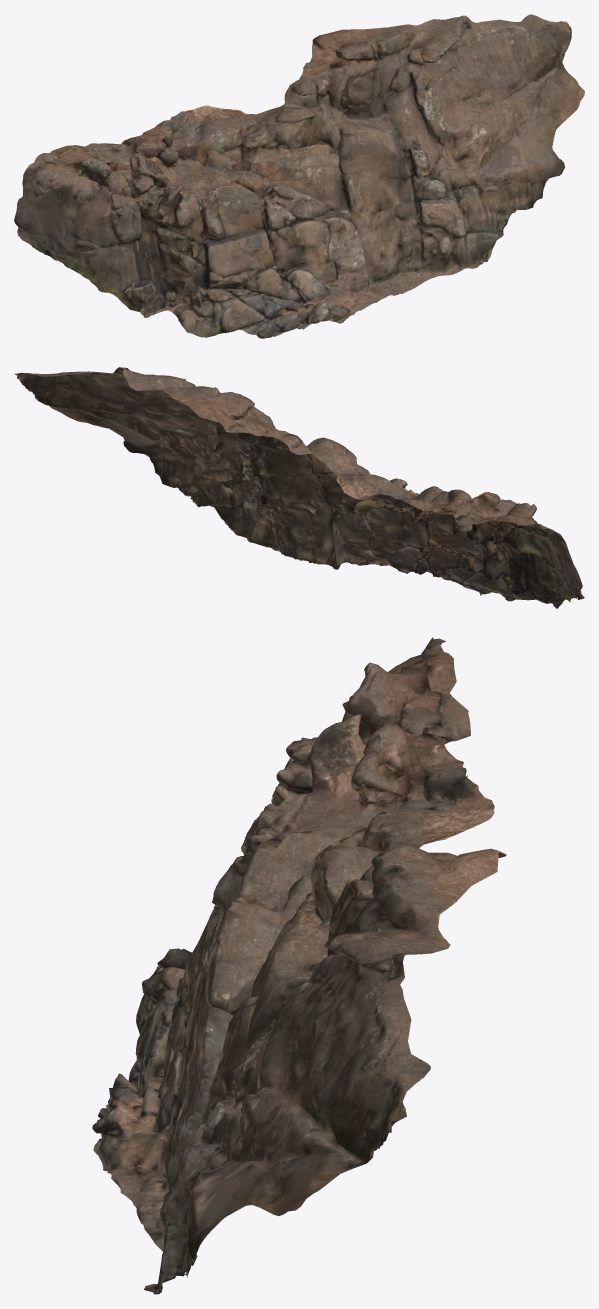
The model's file is namaqualand_cliff_02.glb.
3 renders of one model, top to bottom at view 1: azimuth 30°, elevation 25°; view 2: azimuth 150°, elevation 25°; view 3: azimuth 270°, elevation 25°, orthographic. The views are drawn at different scales.
Visible parts, largest first — view 1: drone_rock_02_LOD0; view 2: drone_rock_02_LOD0; view 3: drone_rock_02_LOD0.
Boxes of the visible parts, x1,y1,x2,y2 form: drone_rock_02_LOD0: (14,14,584,338); drone_rock_02_LOD0: (14,367,584,608); drone_rock_02_LOD0: (92,637,506,1294).
Size of the model in its own units: 20.23 by 7.18 by 6.59.
1 material, 1 textured.
